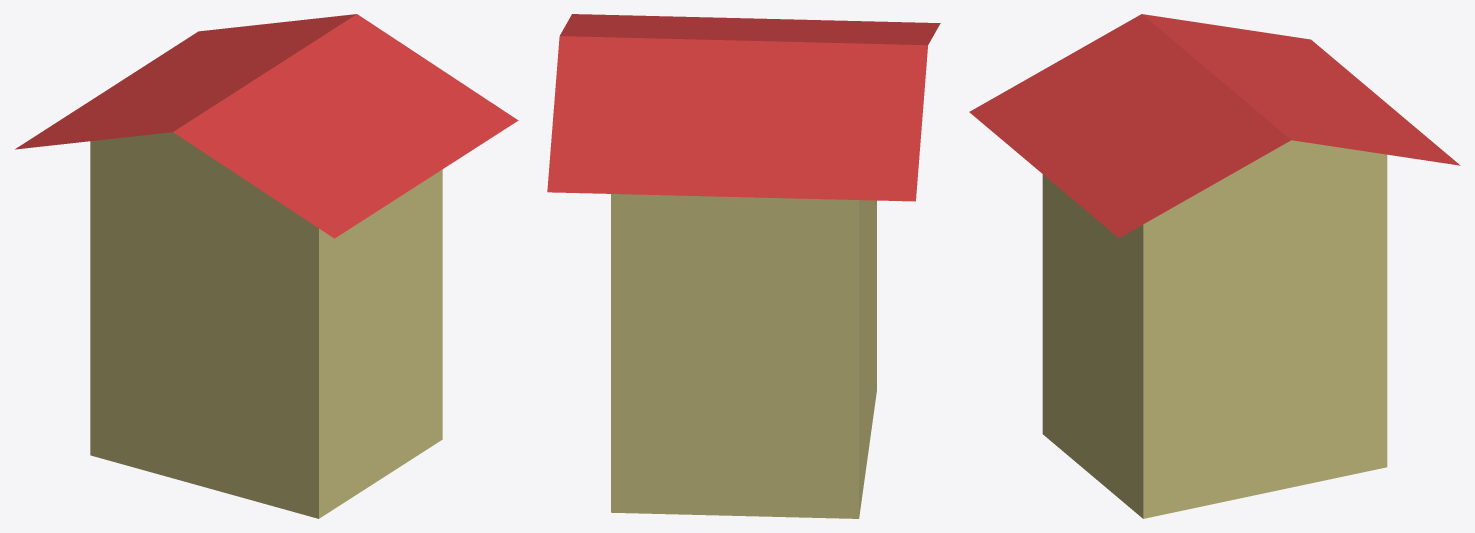
3 views of the same model, side by side, from view 1: azimuth 30°, elevation 25°; view 2: azimuth 150°, elevation 25°; view 3: azimuth 270°, elevation 25° (orthographic). The views are drawn at different scales.
Bounding box in the file's own units: 6.45 × 6.75 × 5.65.
